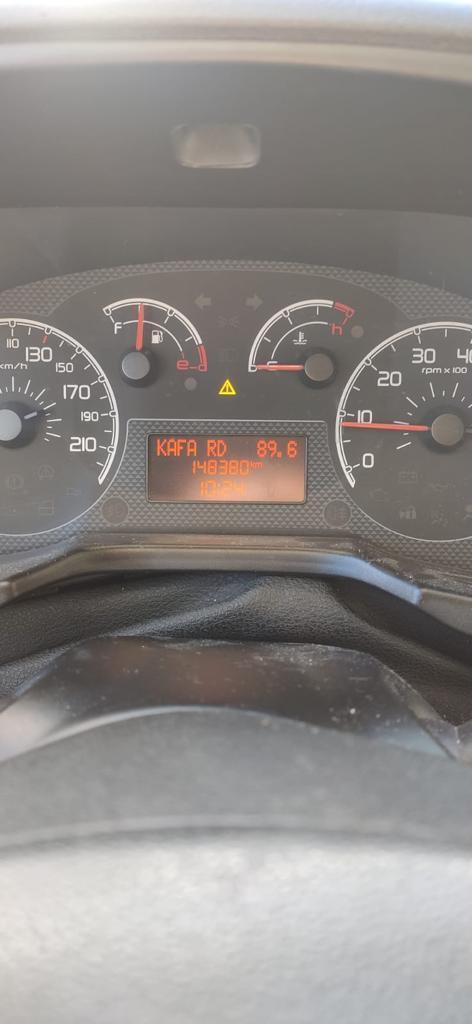,: (277, 451, 282, 458)
0: (204, 479, 216, 498), (239, 459, 249, 475)
1: (191, 460, 196, 475), (200, 480, 203, 497)
2: (221, 479, 233, 497)
3: (218, 460, 228, 475)
4: (233, 479, 246, 497), (196, 459, 207, 475)
6: (286, 440, 298, 457)
8: (255, 439, 267, 457), (228, 459, 238, 475), (207, 459, 216, 475)
9: (267, 439, 277, 457)
X: (216, 439, 228, 456), (186, 439, 197, 456), (166, 438, 176, 456), (176, 438, 186, 456), (206, 439, 216, 456), (157, 438, 166, 456), (255, 460, 264, 468), (250, 460, 255, 468)
odometer: (144, 433, 309, 504)
